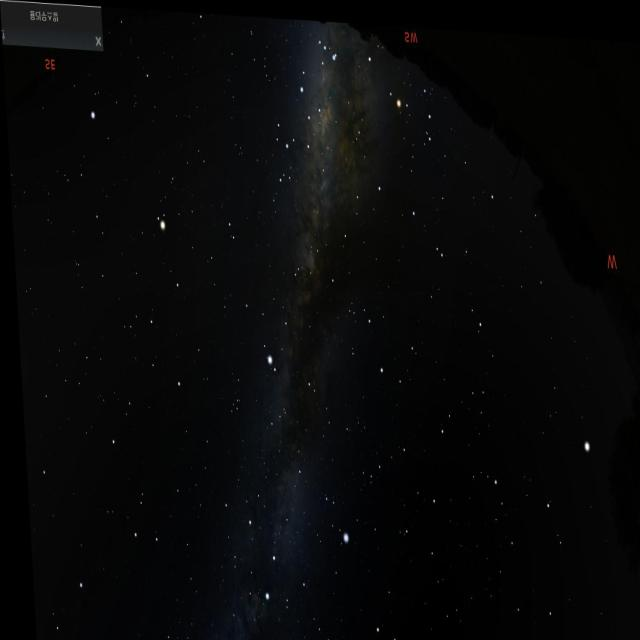aquila: (242, 239, 321, 402)
bootes: (482, 399, 608, 627)
cygnus: (238, 430, 309, 604)
lyra: (308, 477, 348, 539)
sagittarius: (253, 71, 330, 191)
scorpius: (311, 24, 433, 164)
